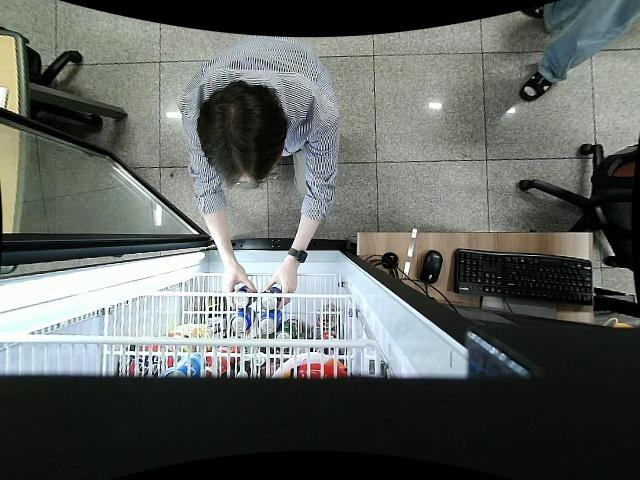00_hand: (265, 265, 299, 309), (225, 272, 255, 307)
14_welchsGrape: (262, 282, 283, 309), (233, 286, 254, 305)
